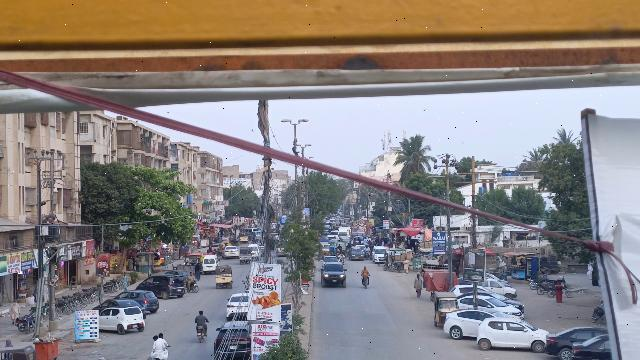Bike: (192, 323, 209, 345), (360, 275, 372, 289)
Car: (475, 316, 549, 351), (544, 323, 610, 360), (443, 308, 493, 340), (213, 320, 253, 359), (99, 305, 147, 334), (136, 274, 187, 298), (569, 331, 611, 360), (91, 299, 146, 318), (117, 289, 160, 313), (320, 262, 348, 290), (225, 290, 250, 319)
Person: (151, 330, 170, 357), (410, 271, 423, 298), (193, 308, 209, 327), (120, 272, 130, 289), (361, 263, 370, 277)
Rickshaw: (432, 291, 459, 329), (213, 265, 234, 289)
